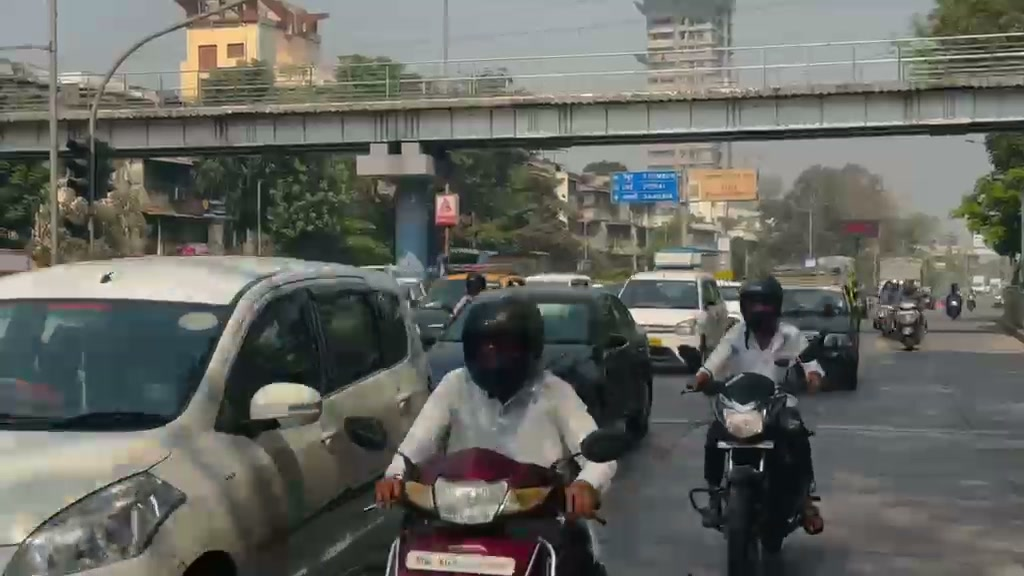car: (1, 253, 434, 570), (428, 283, 654, 443), (618, 269, 734, 370), (773, 279, 861, 391), (716, 282, 745, 323)
motorcycle: (684, 350, 825, 573), (380, 442, 615, 573), (874, 297, 929, 350), (892, 302, 928, 351)
pedestrian: (377, 287, 617, 564), (688, 277, 824, 515), (875, 278, 902, 331)
